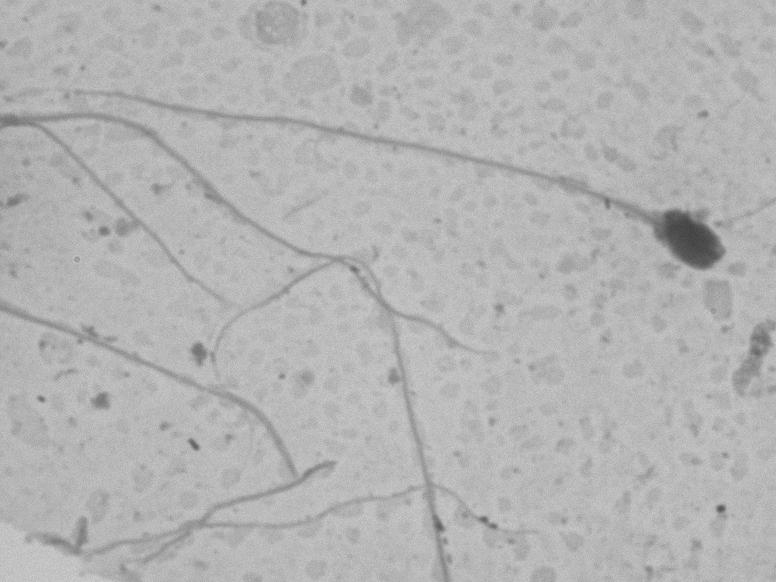Abnormal: (10, 60, 739, 283)
